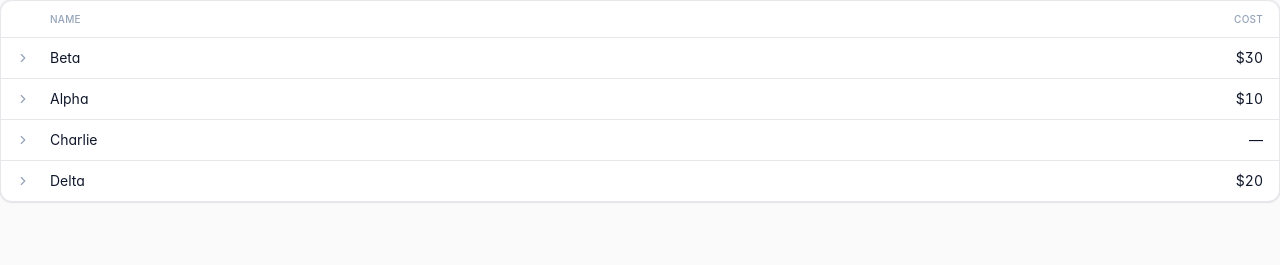
Test: SortableTable › toggles an expandable detail row via the chevron (and ignores rowHref)
The width and height of the screenshot is (1280, 265).
Expected: the text "detail for Beta" is not shown
Click the button named "Expand row" next to "Beta".
click(23, 58)  # box [13,48,33,68]
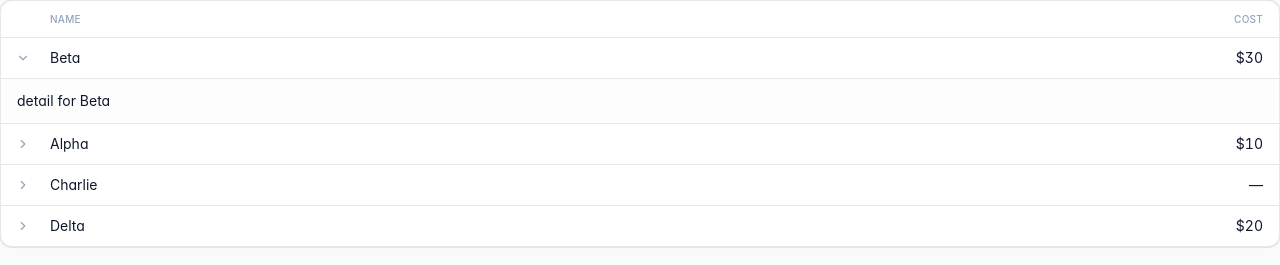
Expected: the text "detail for Beta" is shown, [17,92,110,109]
# Clicking again collapses it.
Click the button named "Collapse row".
click(23, 58)  # box [13,48,33,68]
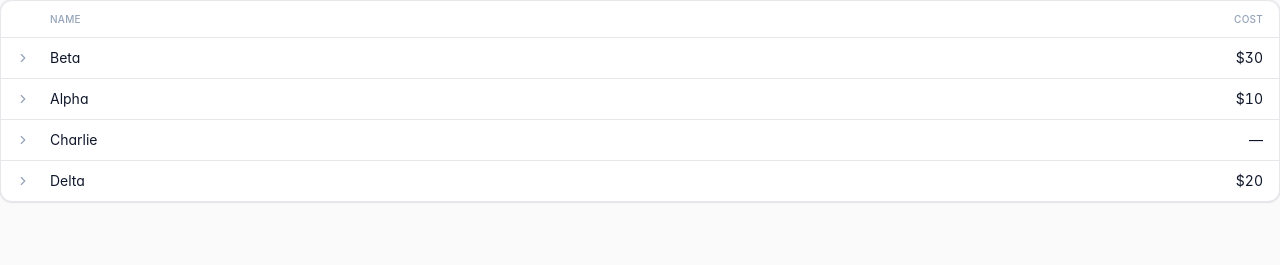
Expected: the text "detail for Beta" is gone
